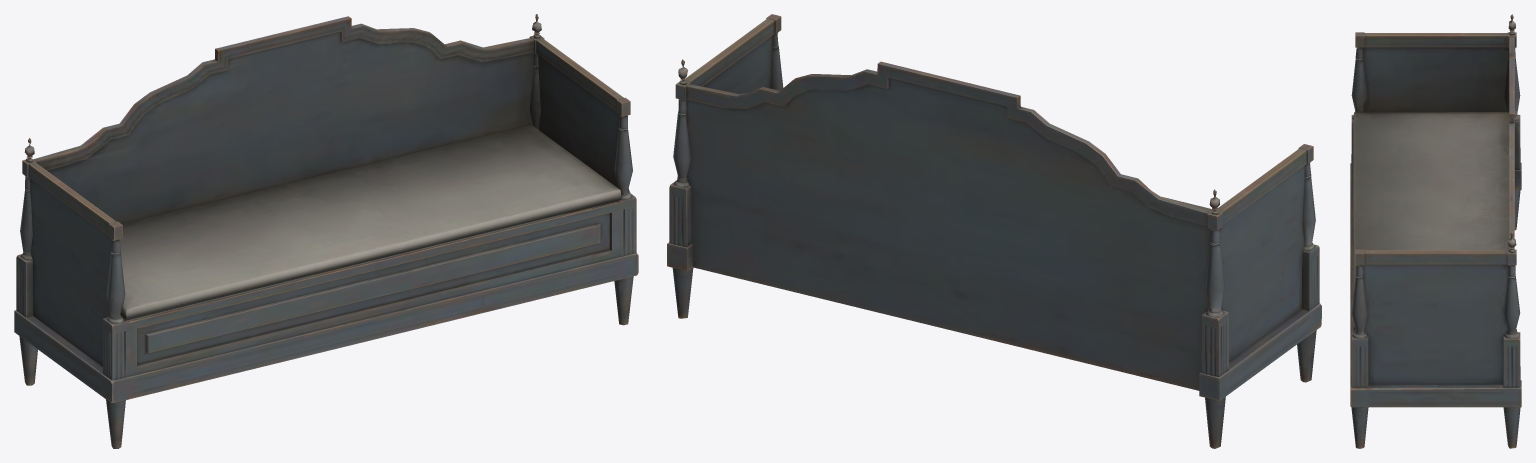
Rendered from painted_wooden_sofa.glb.
The picture shows the model from 3 angles, left to right: view 1: azimuth 30°, elevation 25°; view 2: azimuth 150°, elevation 25°; view 3: azimuth 270°, elevation 25°; orthographic projection. The views are drawn at different scales.
Visible parts, largest first — view 1: painted_wooden_sofa; view 2: painted_wooden_sofa; view 3: painted_wooden_sofa.
Boxes of the visible parts, left/top/right/bottom form: painted_wooden_sofa: left=14, top=14, right=638, bottom=448; painted_wooden_sofa: left=667, top=14, right=1321, bottom=448; painted_wooden_sofa: left=1350, top=14, right=1521, bottom=448.
Bounding box in the file's own units: 2.45 × 1.28 × 0.7873.
1 material, 1 textured.
